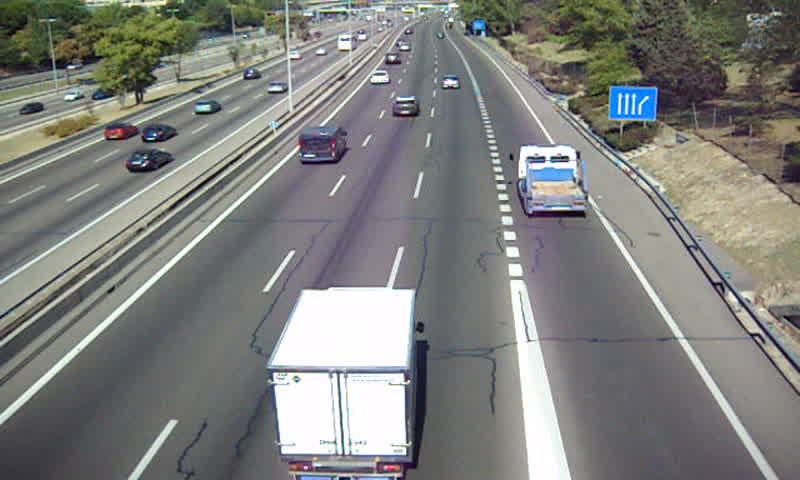car: (392, 96, 419, 119), (441, 75, 461, 92), (368, 70, 389, 86), (384, 50, 403, 66)
small-truck: (265, 286, 419, 480), (517, 143, 589, 217)
van: (296, 127, 346, 166)
